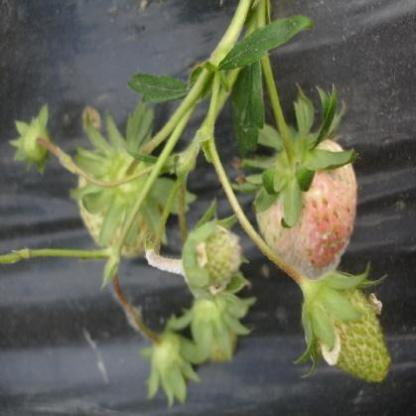Strawberry_Powdery_Mildew_Fruit: (256, 134, 358, 282), (181, 220, 243, 307)
